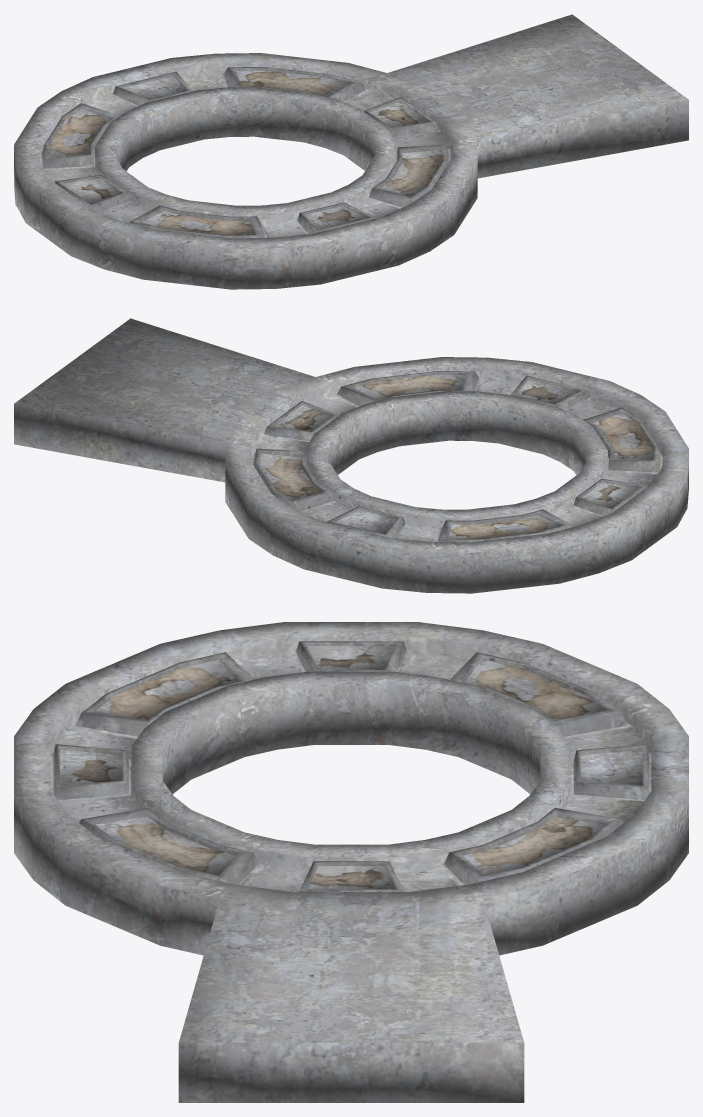
File: mirror_standing.fbx
3 renders of one model, top to bottom at view 1: azimuth 30°, elevation 25°; view 2: azimuth 150°, elevation 25°; view 3: azimuth 270°, elevation 25°, orthographic. The views are drawn at different scales.
Visible parts, largest first — view 1: Mirror_freestanding; view 2: Mirror_freestanding; view 3: Mirror_freestanding.
Boxes of the visible parts, x1,y1,x2,y2 form: Mirror_freestanding: (14, 14, 688, 289); Mirror_freestanding: (14, 318, 688, 593); Mirror_freestanding: (14, 622, 688, 1102).
Size of the model in its own units: 34.67 by 517 by 350.
